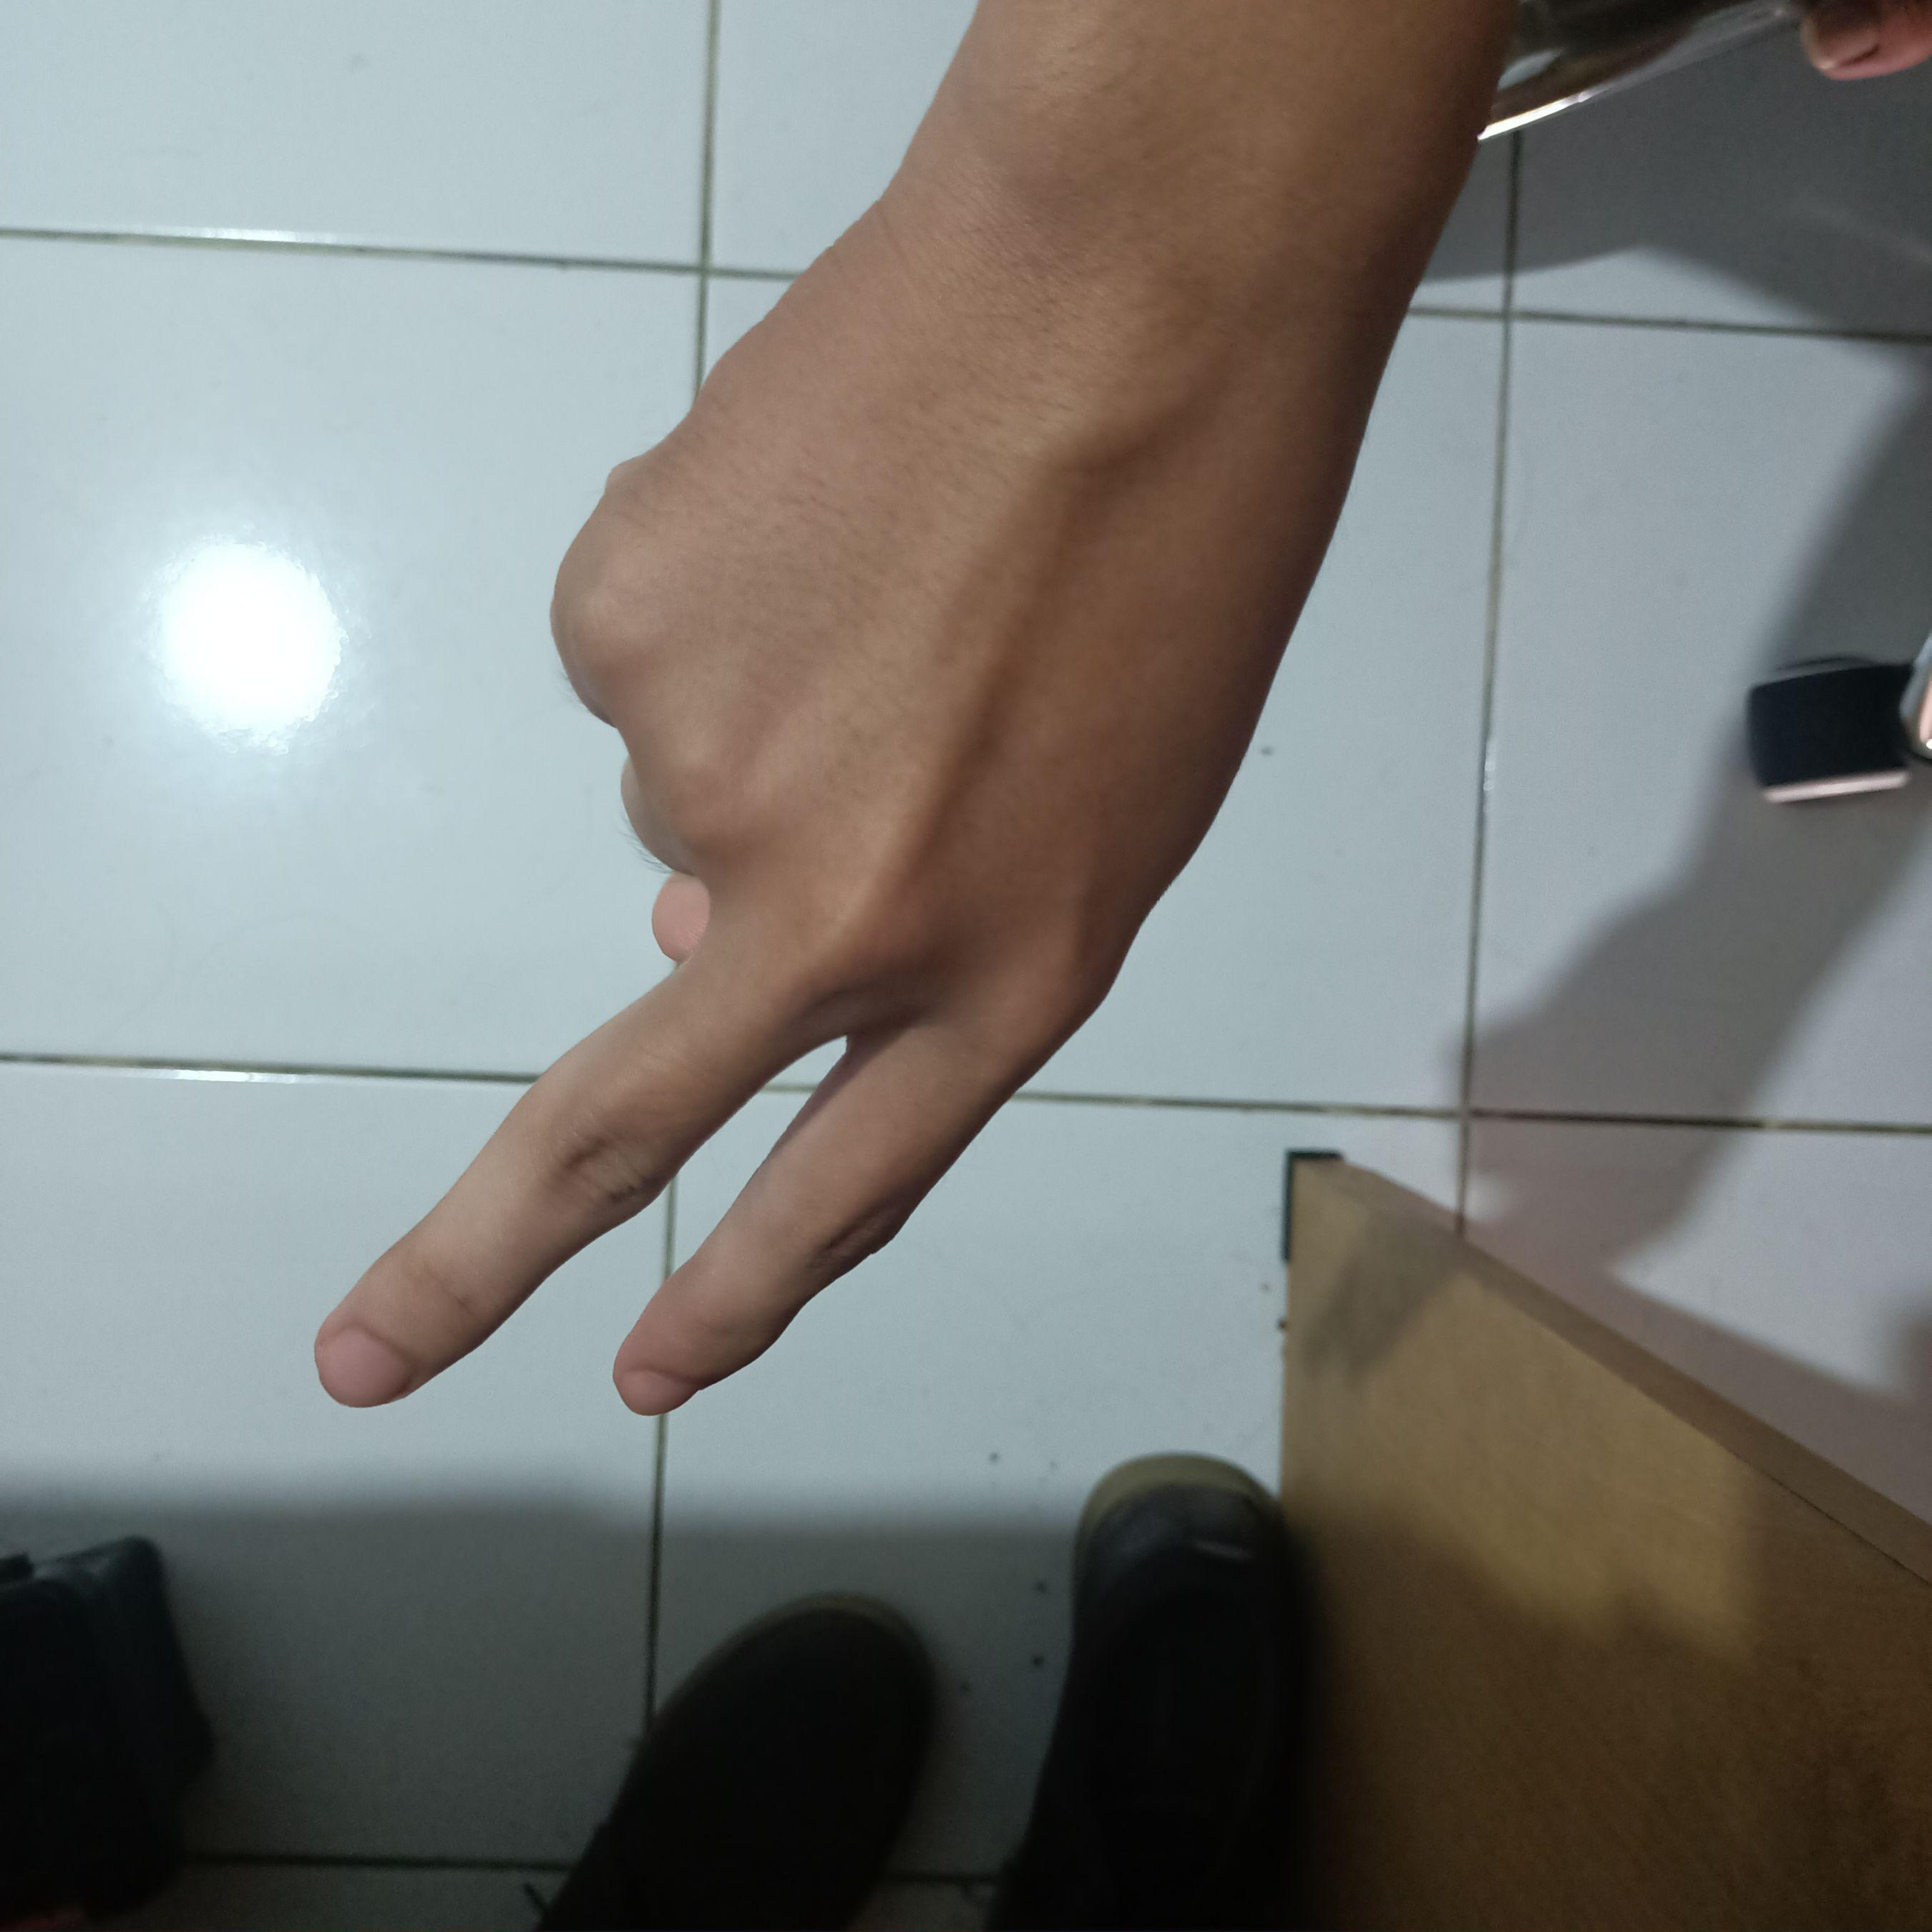scissors: (288, 166, 1353, 1424)
